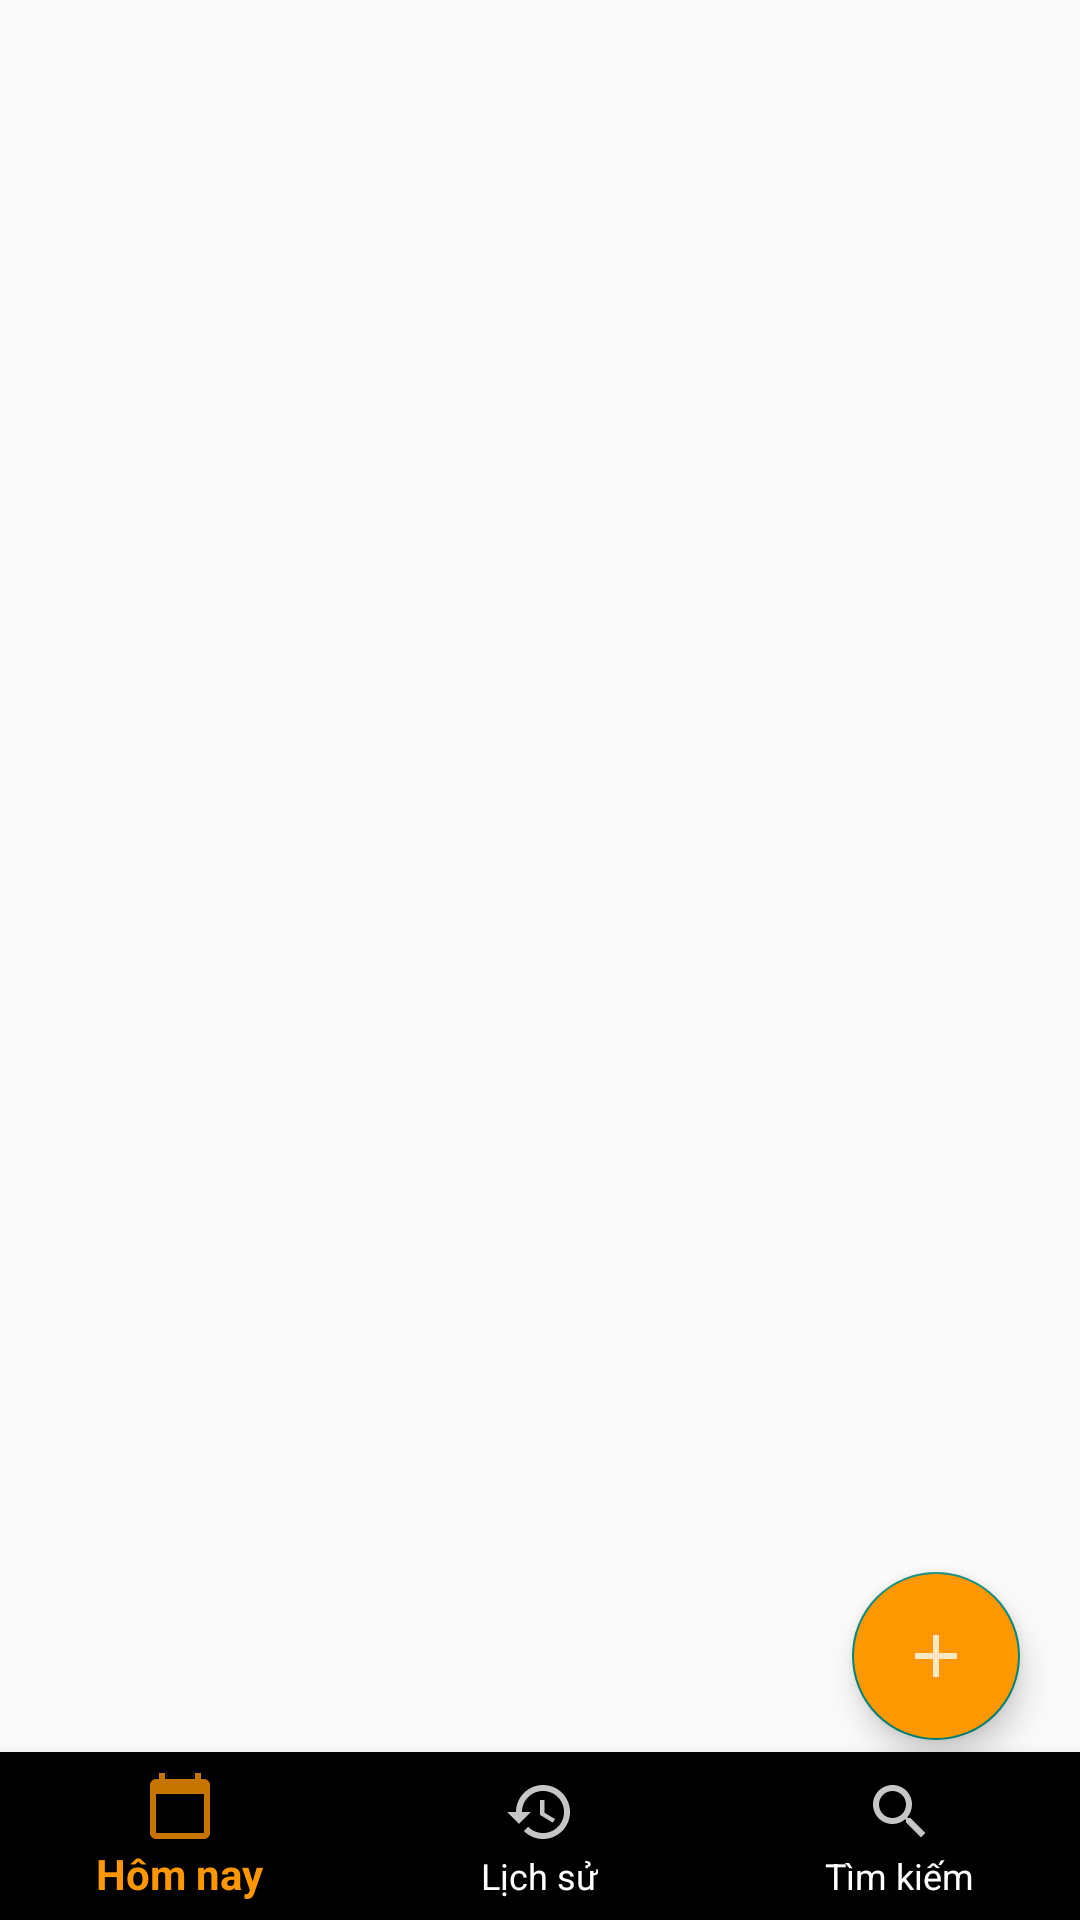

Named icons in this screenshot (1080w x 1920h) and their bounding boxes, (x1, y1, x2, y2):
add: (852, 1572, 1020, 1740)
